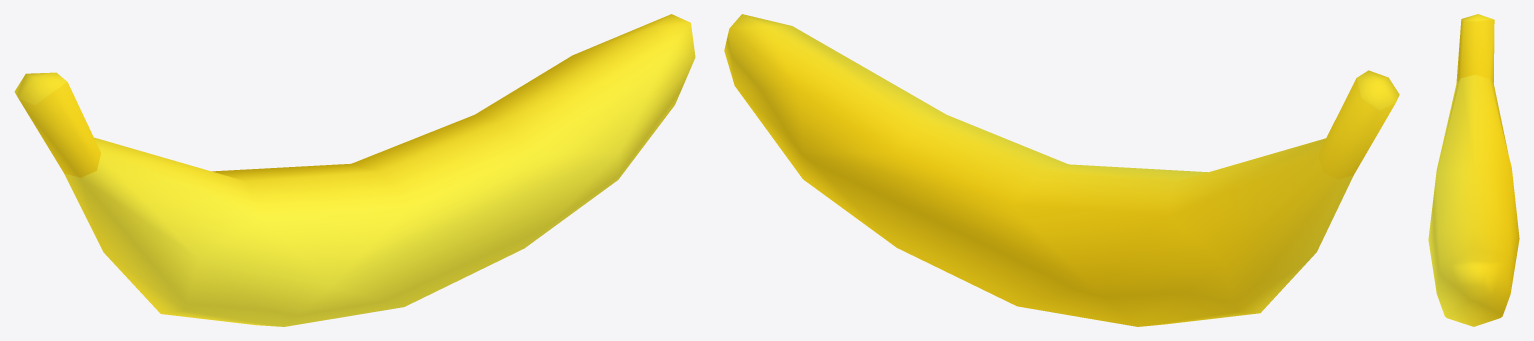
The model's file is banana.glb.
3 renders of one model, left to right at view 1: azimuth 30°, elevation 25°; view 2: azimuth 150°, elevation 25°; view 3: azimuth 270°, elevation 25°, orthographic. The views are drawn at different scales.
Visible parts, largest first — view 1: banana; view 2: banana; view 3: banana.
Boxes of the visible parts, x1,y1,x2,y2 form: banana: [14, 14, 695, 326]; banana: [724, 14, 1399, 326]; banana: [1428, 14, 1519, 326].
Size of the model in its own units: 0.6189 by 0.2723 by 0.1185.
1 material, 1 textured.
